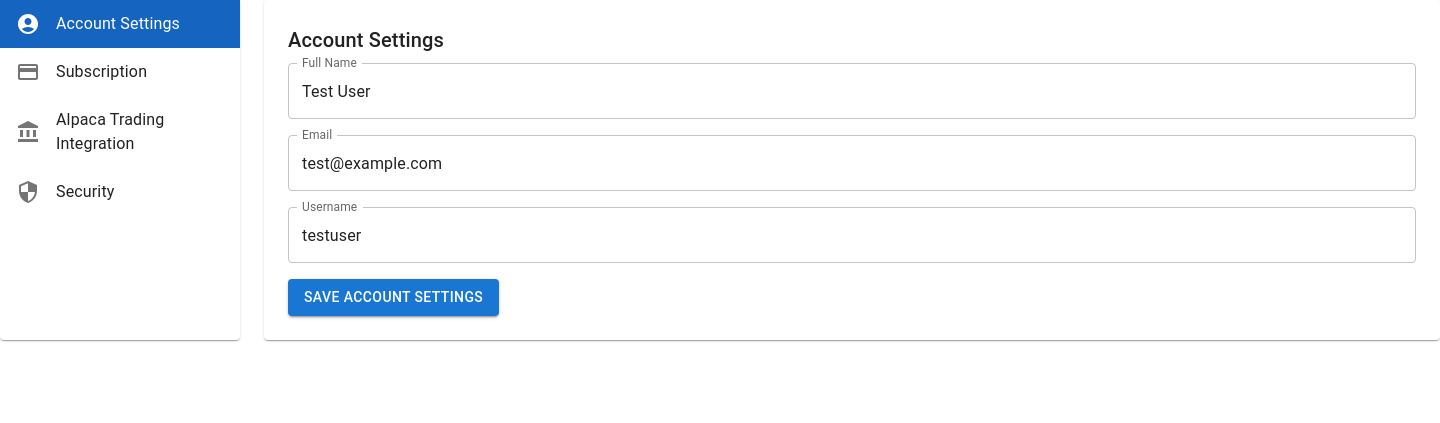
Settings Component › Account Settings Section › displays success message after saving account settings
Click the button "Save Account Settings" at (394, 297), box top-left (288, 279), bottom-right (499, 316)
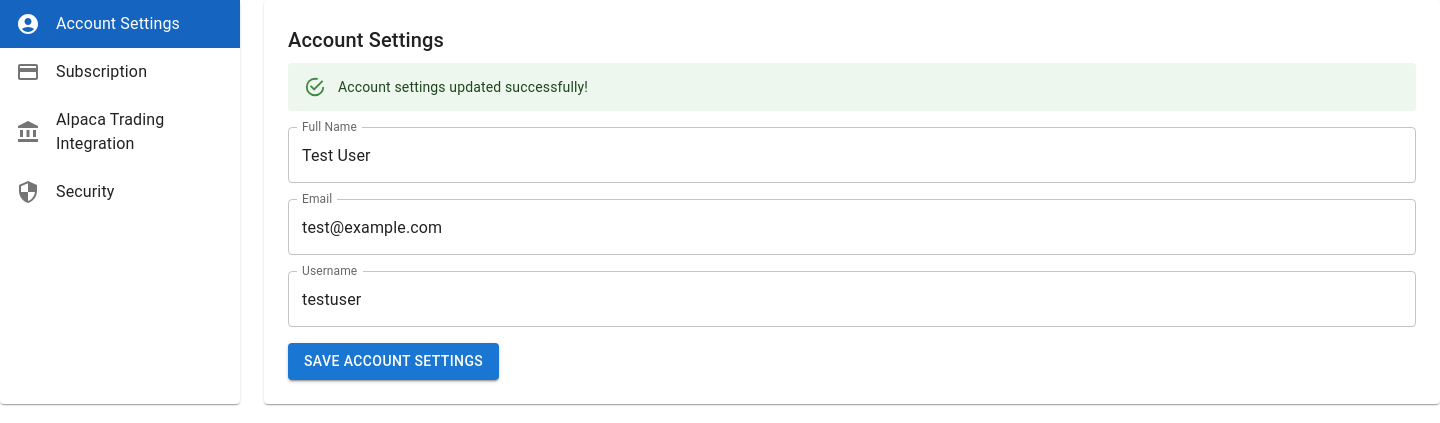
Check: the text "Account settings updated successfully!" is shown, box top-left (338, 79), bottom-right (588, 95)
